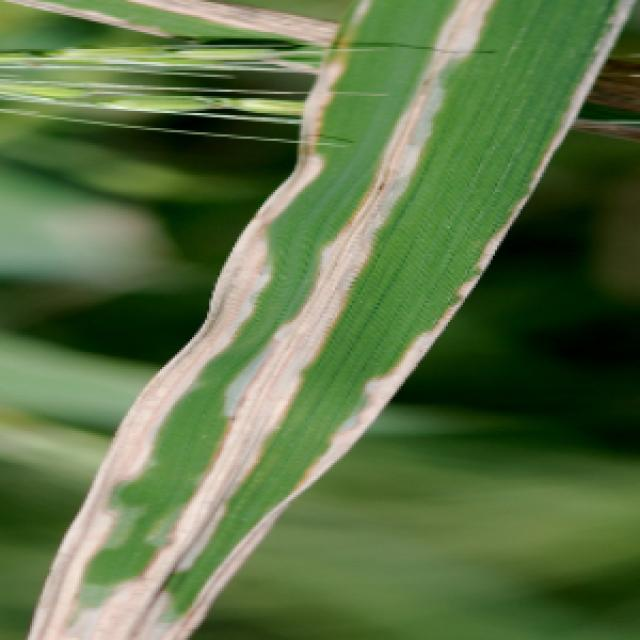Rice: (77, 359, 187, 510), (169, 224, 272, 380), (28, 507, 111, 640), (291, 214, 389, 318), (228, 318, 330, 414), (352, 106, 442, 211), (406, 7, 497, 102), (188, 417, 278, 511), (225, 151, 323, 224), (123, 512, 222, 583), (358, 339, 433, 419), (108, 586, 194, 639), (299, 420, 372, 478)
